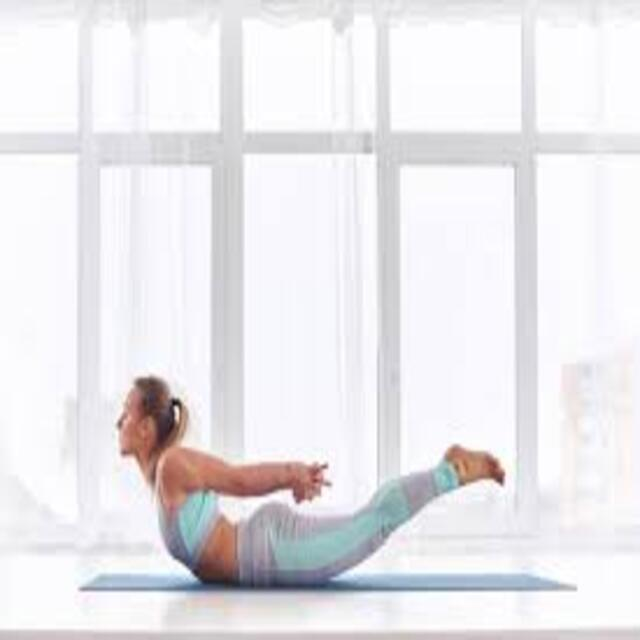Locust_Pose: (113, 374, 509, 582)
